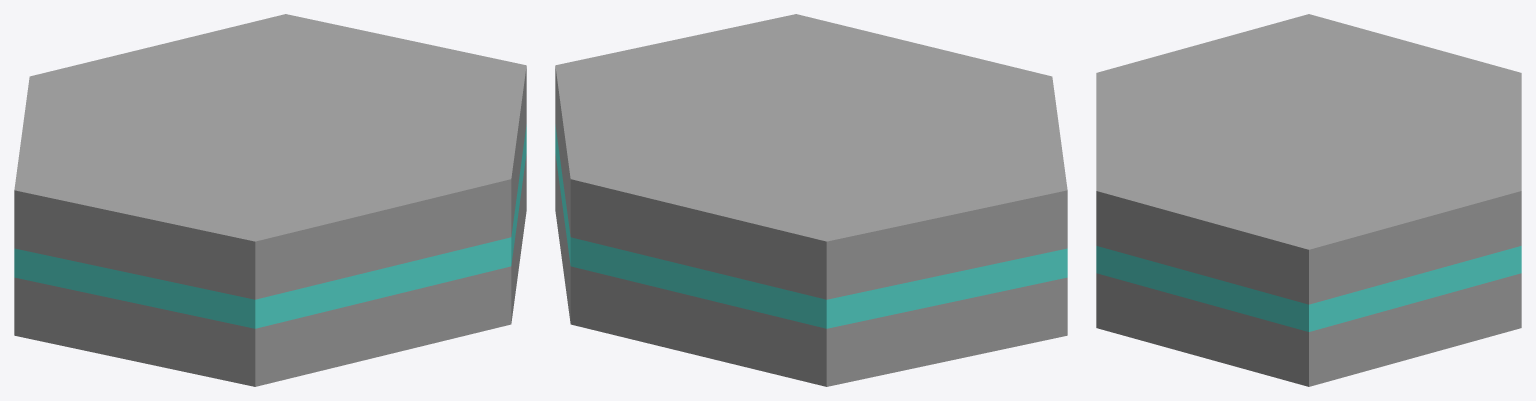
The model's file is ModularWalkways_DiamondPlatform.fbx.
3 renders of one model, left to right at view 1: azimuth 30°, elevation 25°; view 2: azimuth 150°, elevation 25°; view 3: azimuth 270°, elevation 25°, orthographic. The views are drawn at different scales.
Visible parts, largest first — view 1: MiddlePlatform1; view 2: MiddlePlatform1; view 3: MiddlePlatform1.
Part boxes in pixels (x1,y1,x2,y2): MiddlePlatform1: (14, 14, 526, 386); MiddlePlatform1: (555, 14, 1067, 386); MiddlePlatform1: (1096, 14, 1521, 386).
Size of the model in its own units: 2950 by 800 by 2250.
